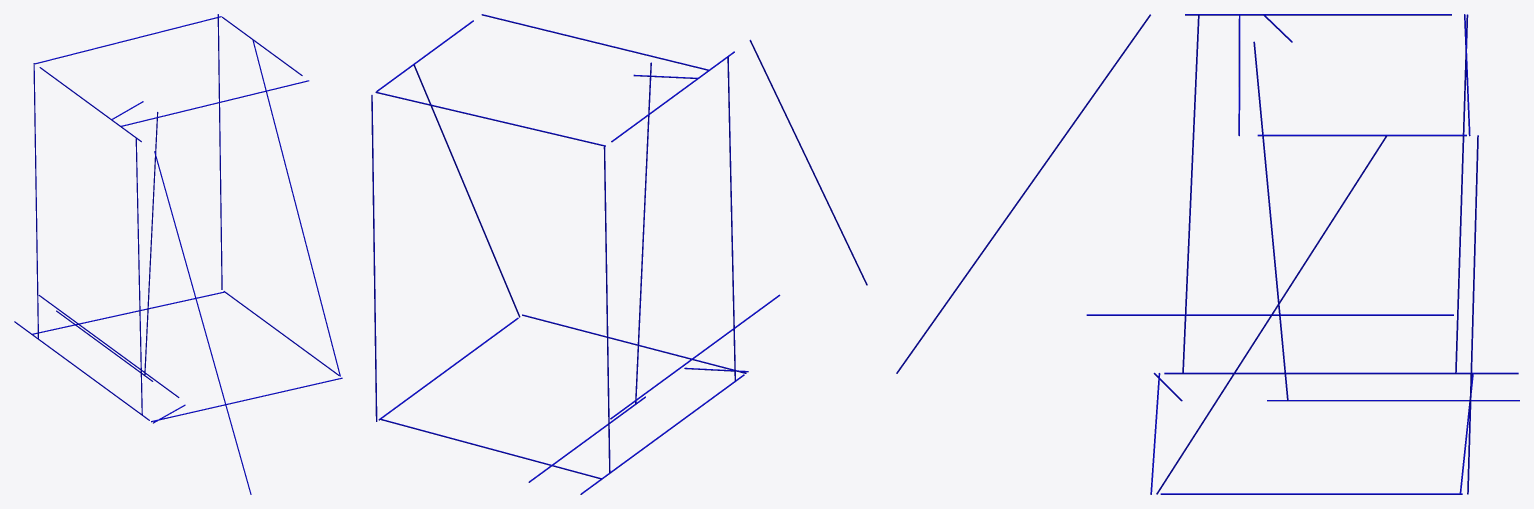
File: corrected_3d_strokes.glb
The picture shows the model from 3 angles, left to right: view 1: azimuth 30°, elevation 25°; view 2: azimuth 150°, elevation 25°; view 3: azimuth 270°, elevation 25°; orthographic projection. The views are drawn at different scales.
Parts seen in each view (by area): view 1: world; view 2: world; view 3: world.
Part boxes in pixels (bbox=[...]): world: bbox=[14, 14, 342, 494]; world: bbox=[371, 14, 867, 494]; world: bbox=[896, 14, 1519, 494].
Bounding box in the file's own units: 6.95 × 9.61 × 15.08.
